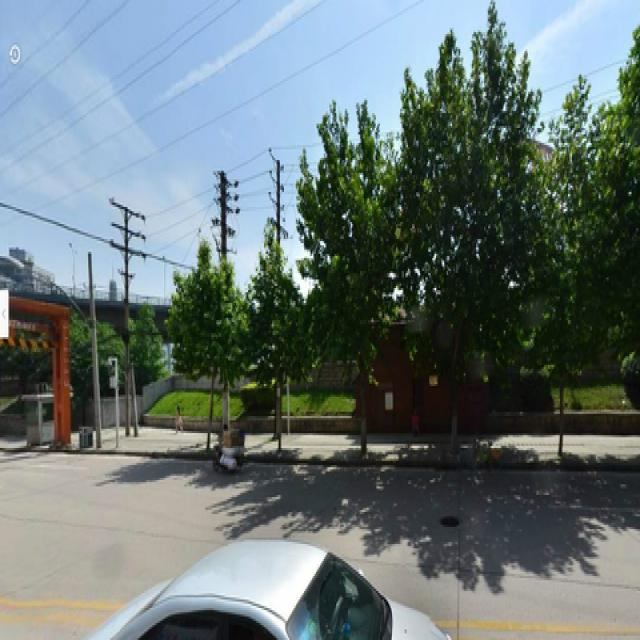meta: (427, 73, 529, 416), (312, 98, 397, 442), (182, 252, 242, 446), (251, 252, 304, 429)
